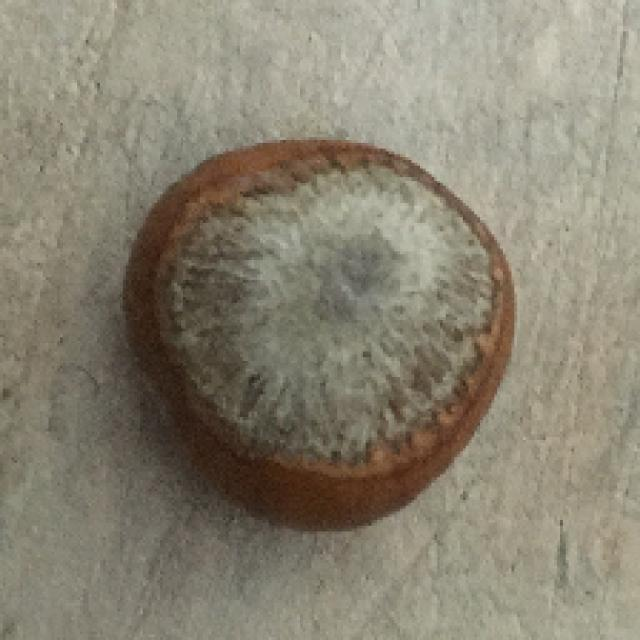qualityHazelnut: (124, 129, 524, 541)
